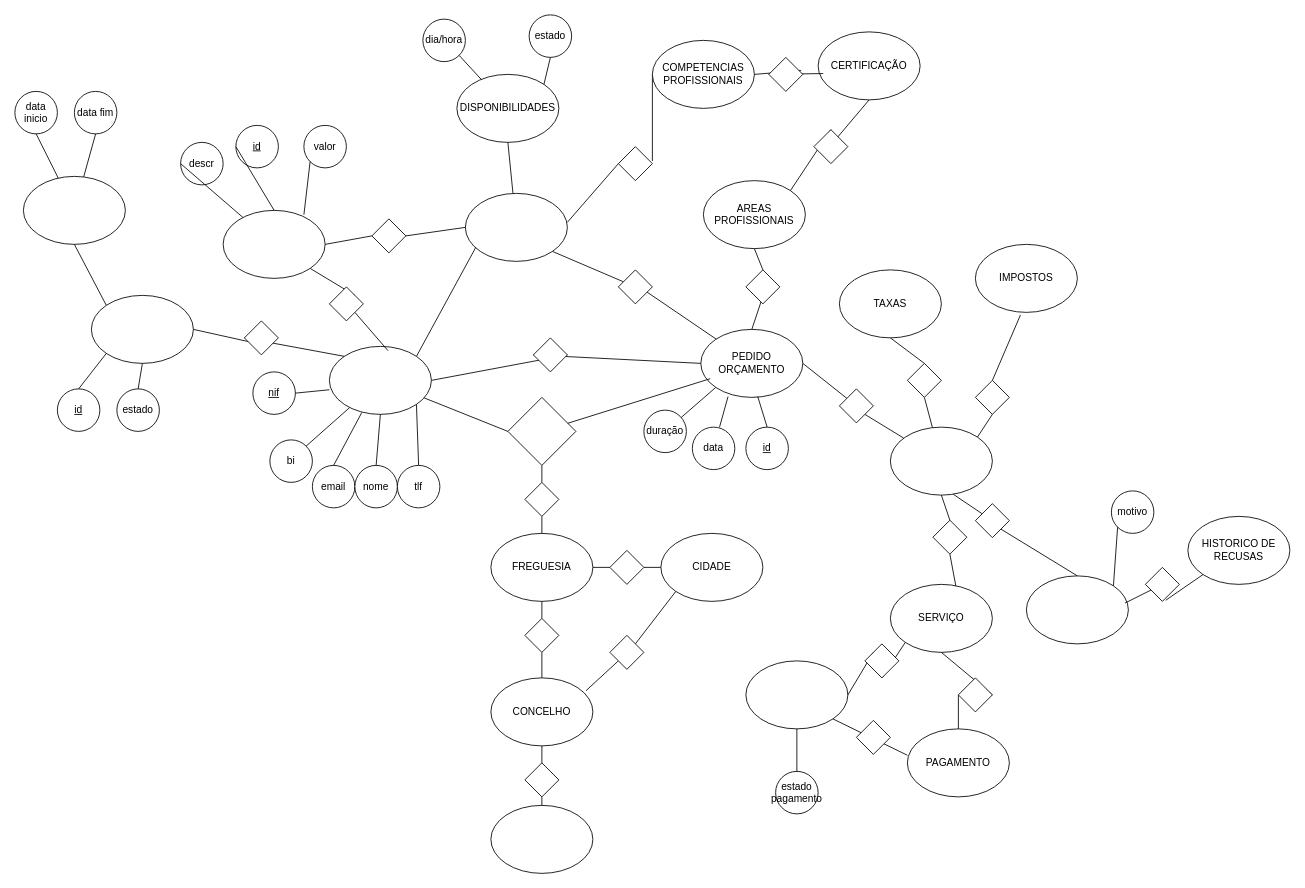
Image size: 1305x888. Some labels were removed from this diagram. The centre of each missing label's shape, as x and y in pixels:
"CLIENTES" belongs at [380,380].
"DISTRITO" belongs at [541,839].
"HISTORICO DE SERVIÇO" belongs at [796,694].
"HISTORICO SESSÃO" belongs at [74,210].
"MORADA" belongs at [541,431].
"ORÇAMENTO" belongs at [941,460].
"PRESTADOR" belongs at [516,227].
"RECUSA" belongs at [1077,609].
"SESSÃO" belongs at [142,329].
"SUBSCRIÇÃO" belongs at [273,244].
